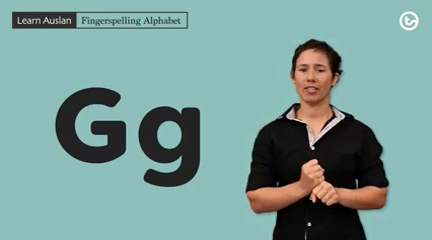G: (301, 155, 337, 209)
